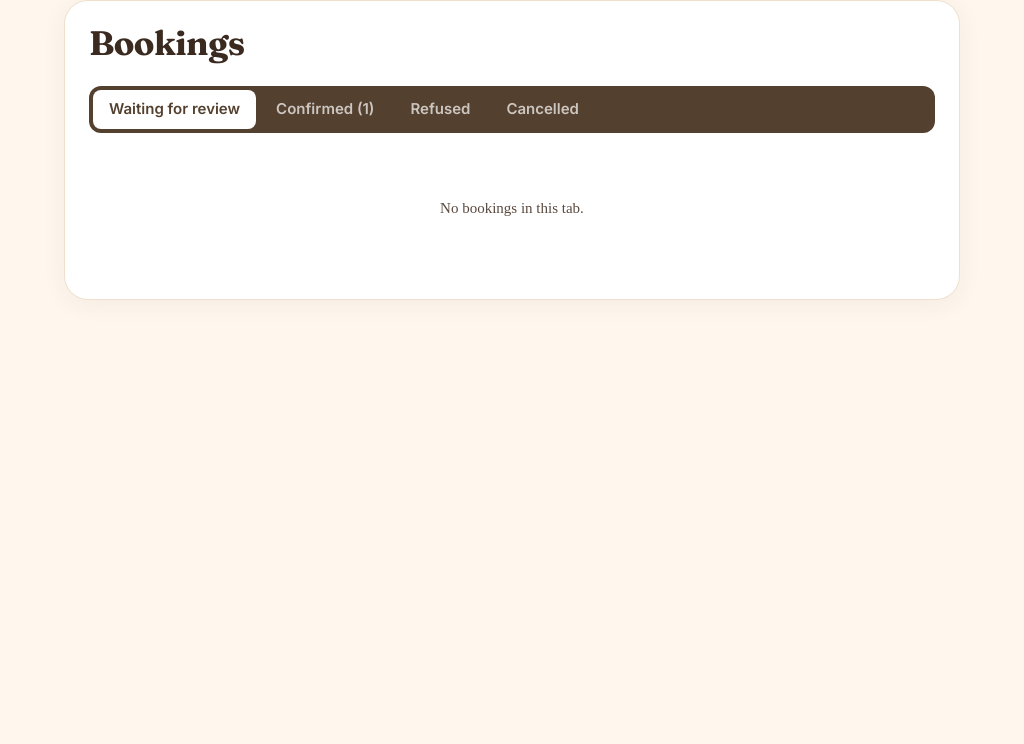
Test: the bookings desk › shows the server's reason when it refuses
Click the button "Confirmed (1)". click: (325, 110)
box: [260, 90, 390, 129]
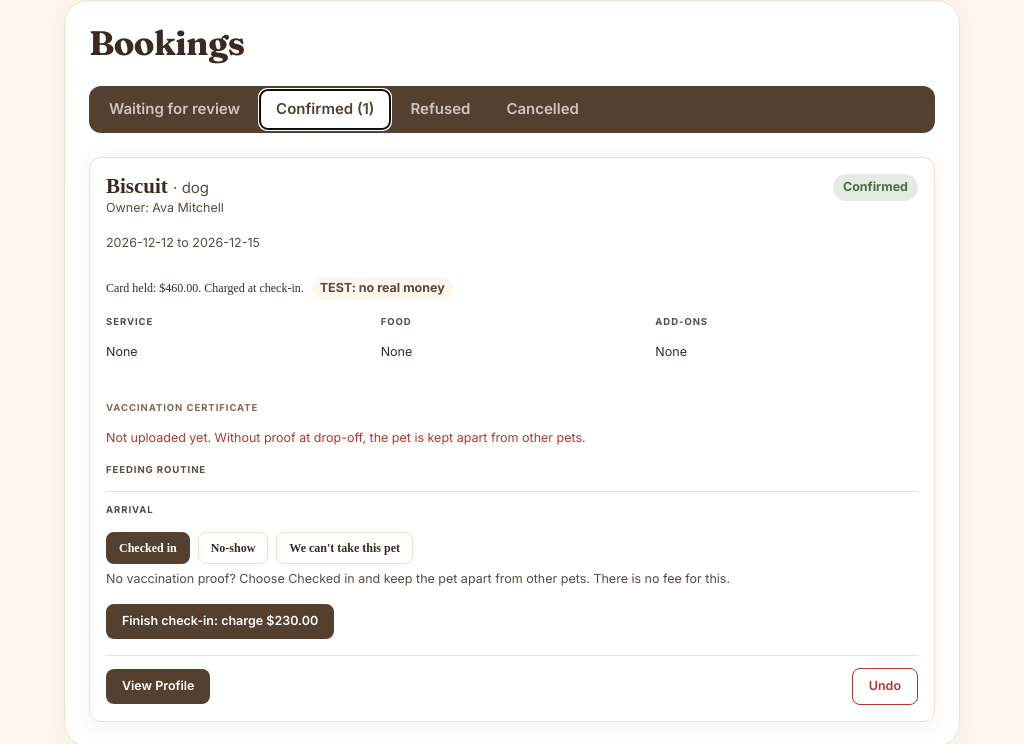
Click the button "Finish check-in: charge $230.00". click: (220, 622)
box: [106, 604, 334, 639]
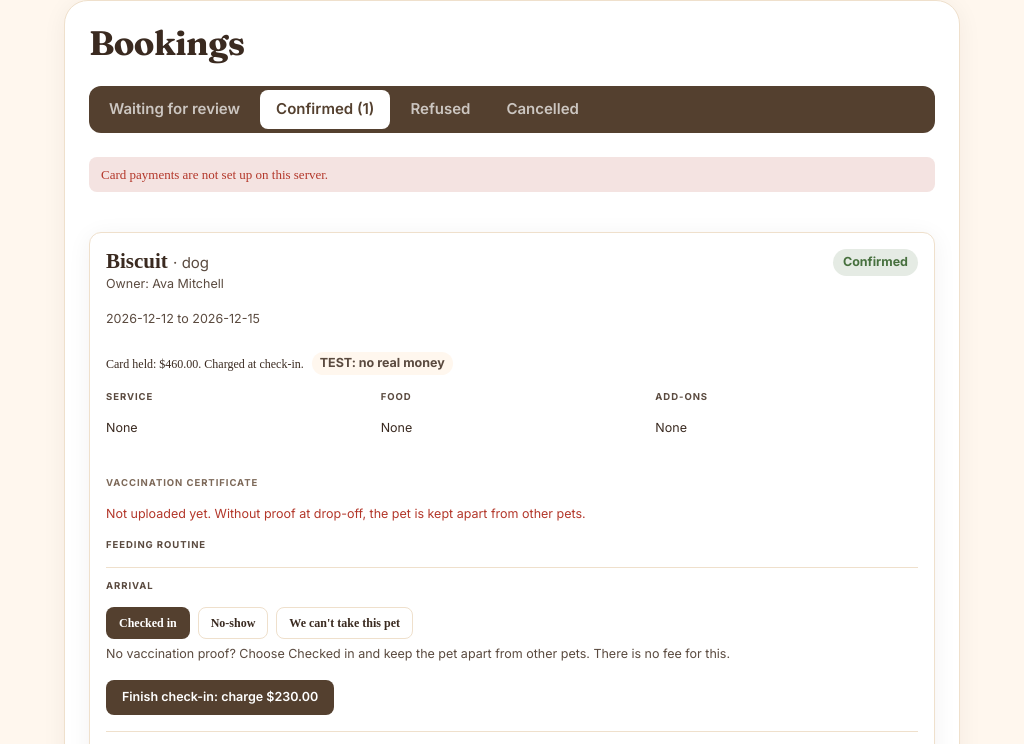
Check: the message reads "Card payments are not set up on this server.", box [101, 167, 328, 182]
